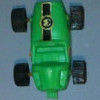verde_norte: (13, 1, 85, 97)
